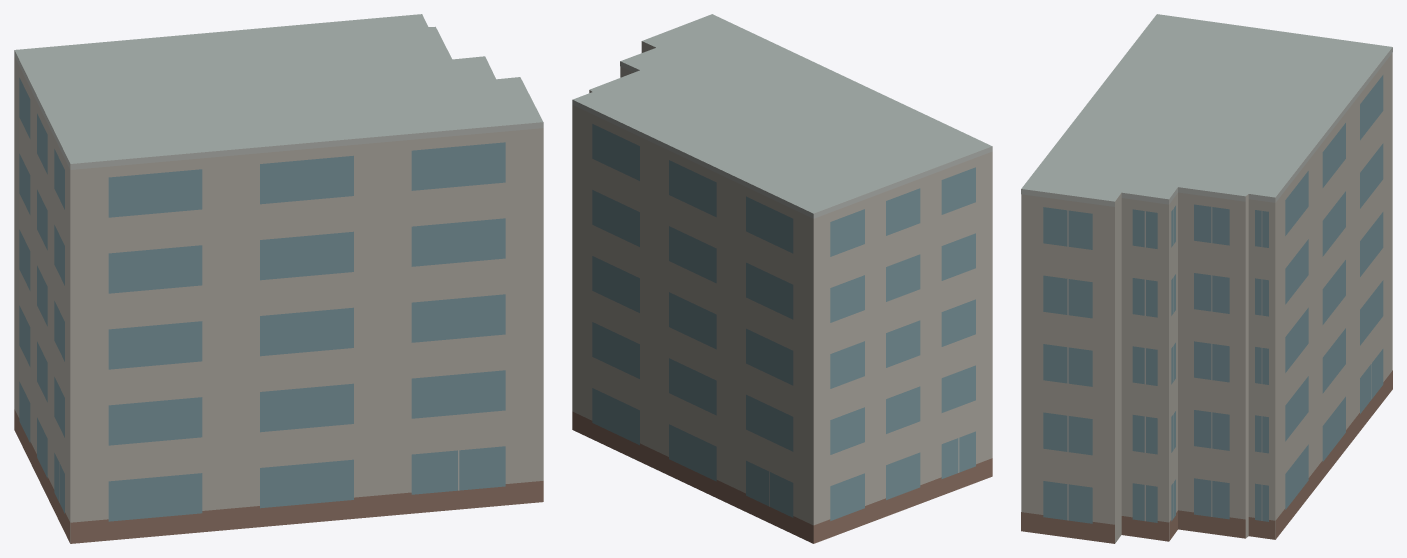
File: survey-upis-32710232.glb
The picture shows the model from 3 angles, left to right: view 1: azimuth 30°, elevation 25°; view 2: azimuth 150°, elevation 25°; view 3: azimuth 270°, elevation 25°; orthographic projection. The views are drawn at different scales.
Visible parts, largest first — view 1: survey-upis-32710232.tmp; view 2: survey-upis-32710232.tmp; view 3: survey-upis-32710232.tmp.
Boxes of the visible parts, x1,y1,x2,y2 form: survey-upis-32710232.tmp: (14,14,543,543); survey-upis-32710232.tmp: (572,14,992,543); survey-upis-32710232.tmp: (1021,14,1392,543).
Size of the model in its own units: 18.35 by 15.6 by 15.36.
